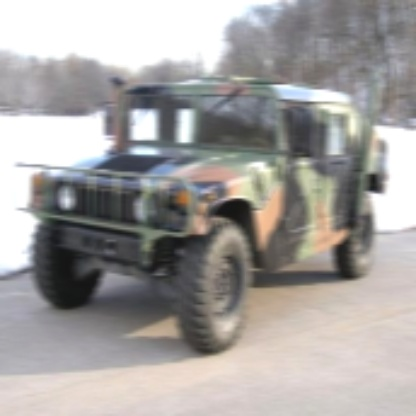Vehicle: (12, 66, 389, 354)
